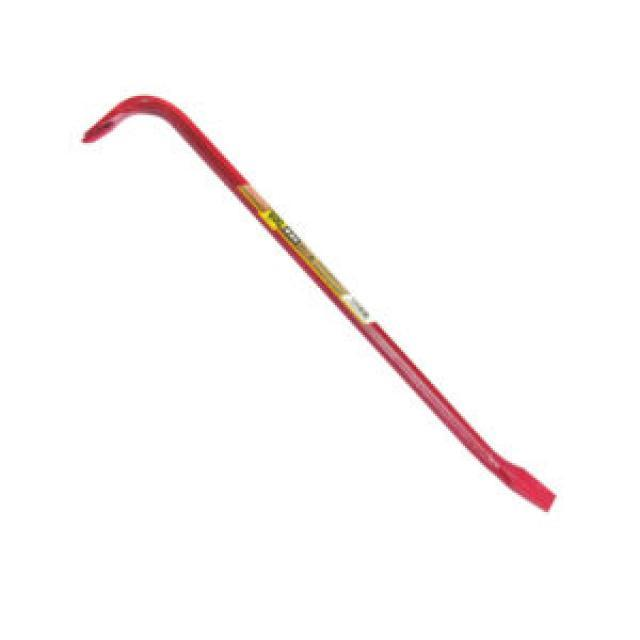Linggis: (75, 75, 565, 516)
